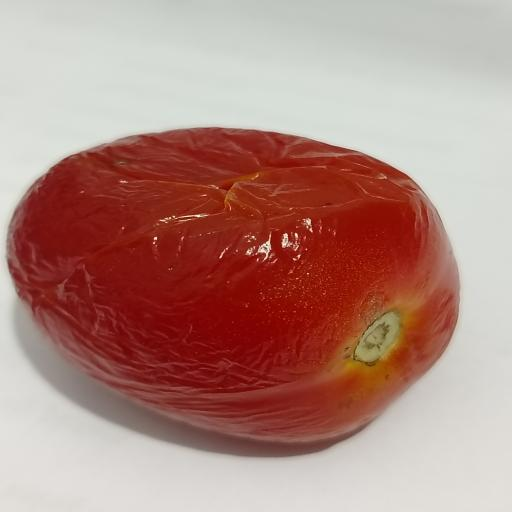spoiled: (7, 128, 459, 443)
